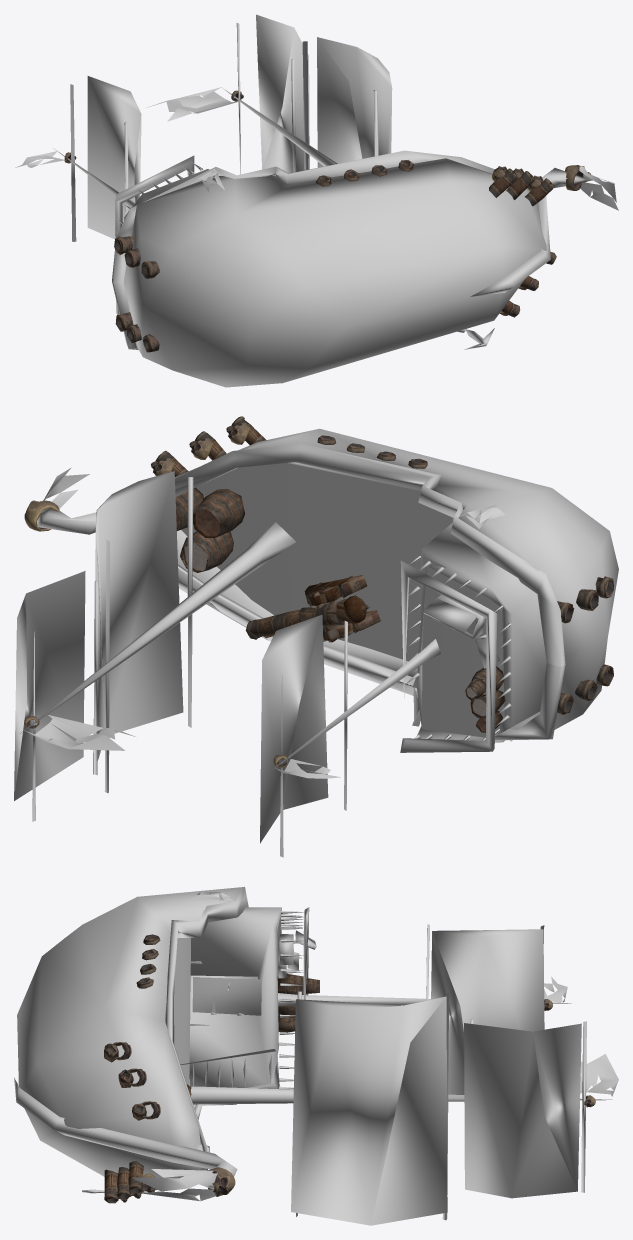
Rendered from stylized_ship(low_poly).fbx.
3 renders of one model, top to bottom at view 1: azimuth 30°, elevation 25°; view 2: azimuth 150°, elevation 25°; view 3: azimuth 270°, elevation 25°, orthographic. The views are drawn at different scales.
Parts seen in each view (by area): view 1: ship, big_flags, cannon2, ship.001, flags, Skull; view 2: ship, big_flags, barrels, ship.001, cannon1, flags, cannon2, Skull, treasure; view 3: big_flags, ship, flags, door, cannon2, Skull, ship.001, barrels, treasure, wood_stair.
Boxes of the visible parts, x1=… form: ship: x1=53, y1=88, x2=586, y2=387; big_flags: x1=87, y1=14, x2=392, y2=239; cannon2: x1=114, y1=160, x2=556, y2=352; ship.001: x1=70, y1=23, x2=378, y2=241; flags: x1=15, y1=87, x2=618, y2=210; Skull: x1=64, y1=90, x2=590, y2=315; ship: x1=20, y1=428, x2=618, y2=772; big_flags: x1=14, y1=471, x2=328, y2=843; barrels: x1=175, y1=487, x2=505, y2=732; ship.001: x1=32, y1=477, x2=347, y2=857; cannon1: x1=245, y1=575, x2=380, y2=642; flags: x1=24, y1=467, x2=512, y2=778; cannon2: x1=155, y1=416, x2=613, y2=714; Skull: x1=24, y1=422, x2=288, y2=767; treasure: x1=423, y1=594, x2=499, y2=668; big_flags: x1=291, y1=929, x2=581, y2=1225; ship: x1=14, y1=886, x2=612, y2=1193; flags: x1=131, y1=890, x2=618, y2=1201; door: x1=192, y1=977, x2=261, y2=1015; cannon2: x1=104, y1=934, x2=160, y2=1203; Skull: x1=113, y1=999, x2=595, y2=1202; ship.001: x1=296, y1=924, x2=586, y2=1220; barrels: x1=187, y1=973, x2=319, y2=1096; treasure: x1=278, y1=930, x2=316, y2=978; wood_stair: x1=180, y1=1049, x2=275, y2=1088.
Bounding box in the file's own units: 1243 × 542 × 1303.
